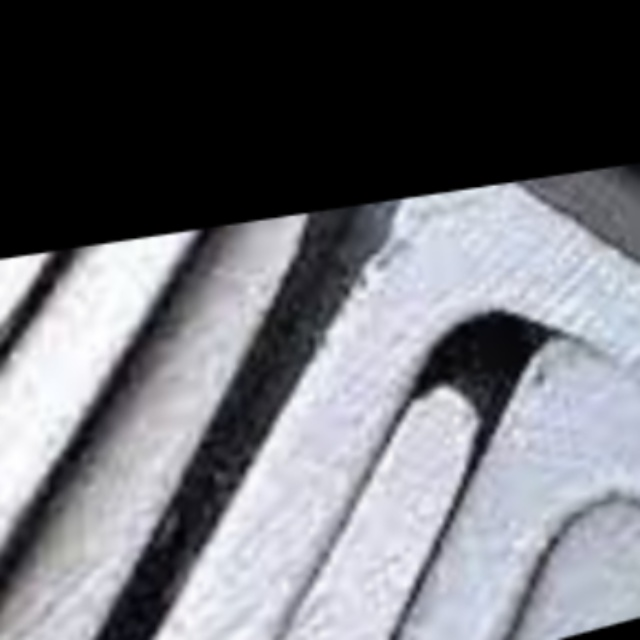Angle: (72, 227, 640, 640), (0, 227, 309, 640), (169, 382, 640, 640), (0, 428, 473, 640), (0, 242, 167, 640), (201, 554, 640, 640)
